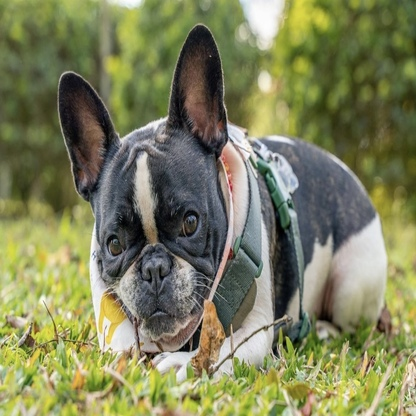bulldog: (55, 21, 390, 380)
